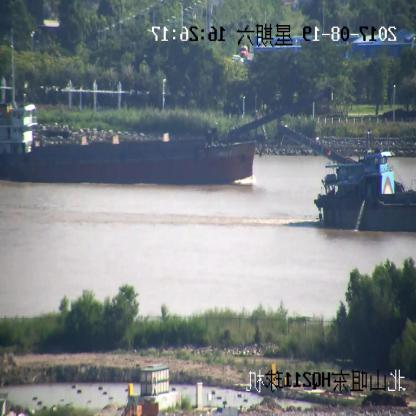Bulk Carrier: (0, 88, 330, 184), (282, 123, 416, 230)
